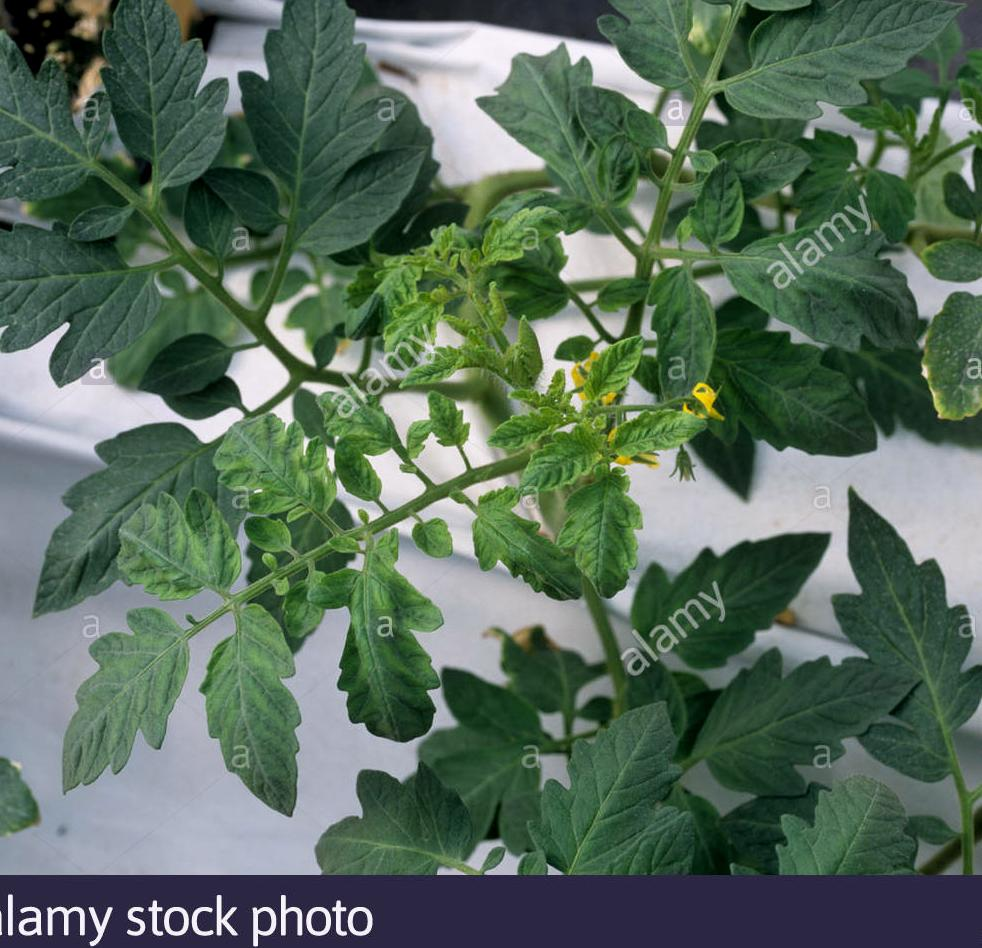Tomato leaf yellow virus: (561, 464, 651, 601), (515, 430, 622, 504), (588, 403, 716, 459)
